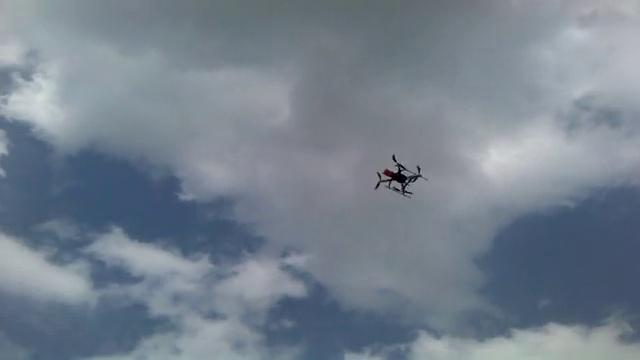drone: (372, 151, 428, 199)
